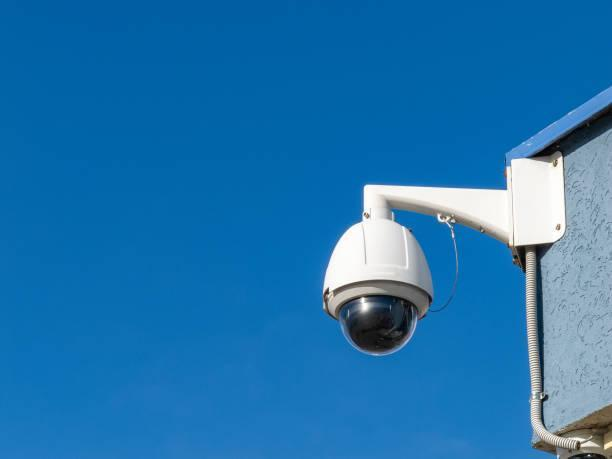camera: (305, 201, 456, 383)
